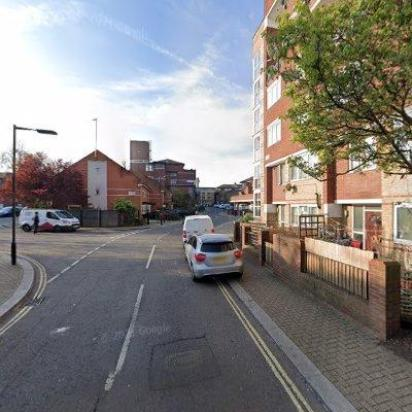stationary-car-onstreet: (182, 234, 242, 282), (0, 206, 22, 220)
stationary-light-truck-onstreet: (19, 207, 78, 232), (181, 213, 213, 244), (218, 204, 232, 210)
